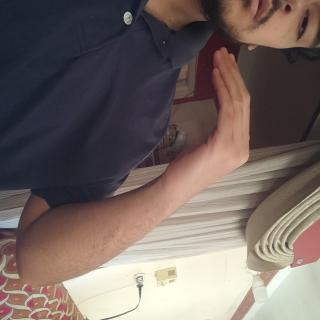HAA: (34, 85, 164, 223)
